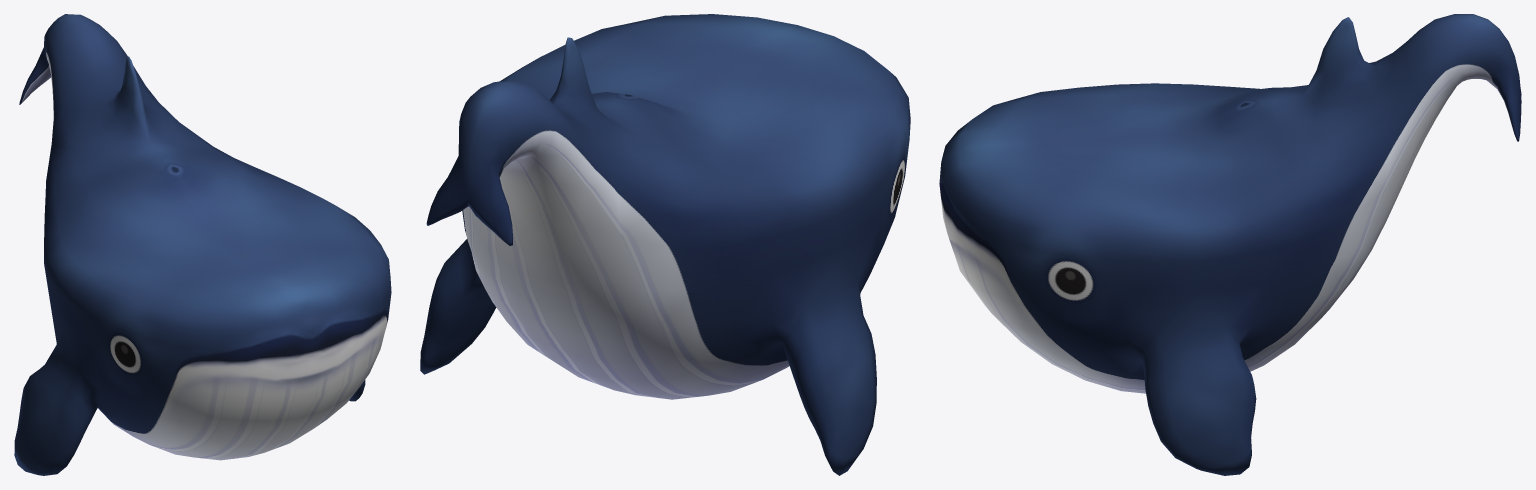
The model's file is whale.FBX.
3 views of the same model, side by side, from view 1: azimuth 30°, elevation 25°; view 2: azimuth 150°, elevation 25°; view 3: azimuth 270°, elevation 25° (orthographic). The views are drawn at different scales.
Parts seen in each view (by area): view 1: whale; view 2: whale; view 3: whale.
Part boxes in pixels (x1=…): whale: x1=14, y1=14, x2=391, y2=475; whale: x1=420, y1=14, x2=910, y2=475; whale: x1=939, y1=14, x2=1521, y2=475.
Bounding box in the file's own units: 35.41 × 35.4 × 49.97.
